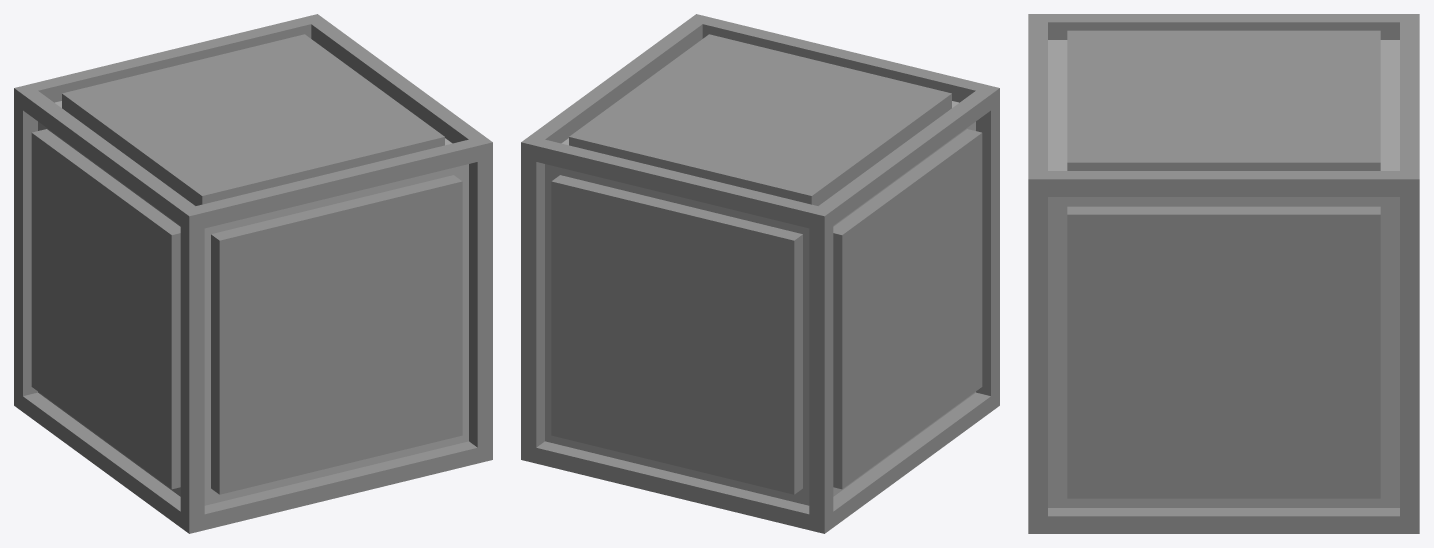
File: stone_tile4.fbx
The picture shows the model from 3 angles, left to right: view 1: azimuth 30°, elevation 25°; view 2: azimuth 150°, elevation 25°; view 3: azimuth 270°, elevation 25°; orthographic projection. The views are drawn at different scales.
Parts seen in each view (by area): view 1: Mesh; view 2: Mesh; view 3: Mesh.
Boxes of the visible parts, x1,y1,x2,y2 form: Mesh: (14,14,492,533); Mesh: (521,14,999,533); Mesh: (1028,14,1419,533).
Size of the model in its own units: 1 by 1 by 1.
